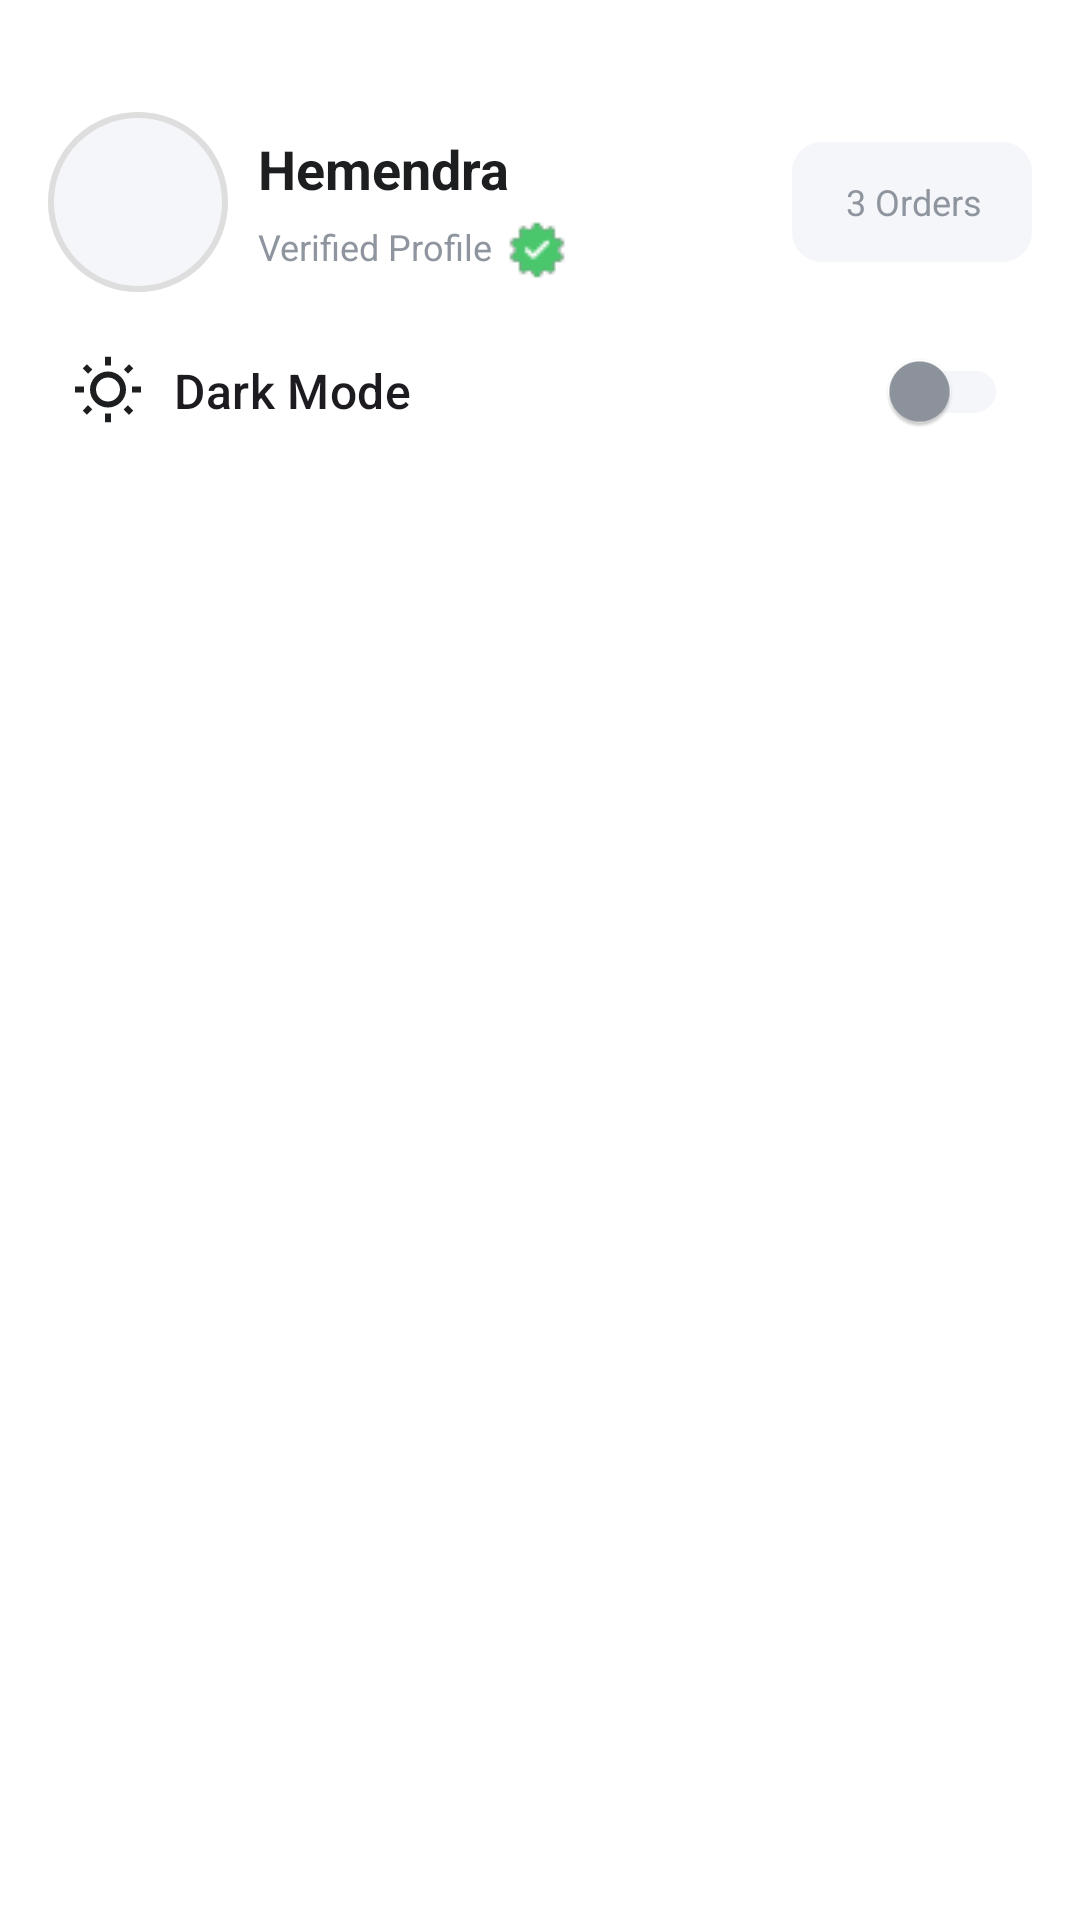

Named icons in this screenshot (1080px×1920px) and their bounding boxes, (x1, y1, x2, y2):
sunny: (75, 356, 141, 423)
verfic: (509, 222, 565, 278)
